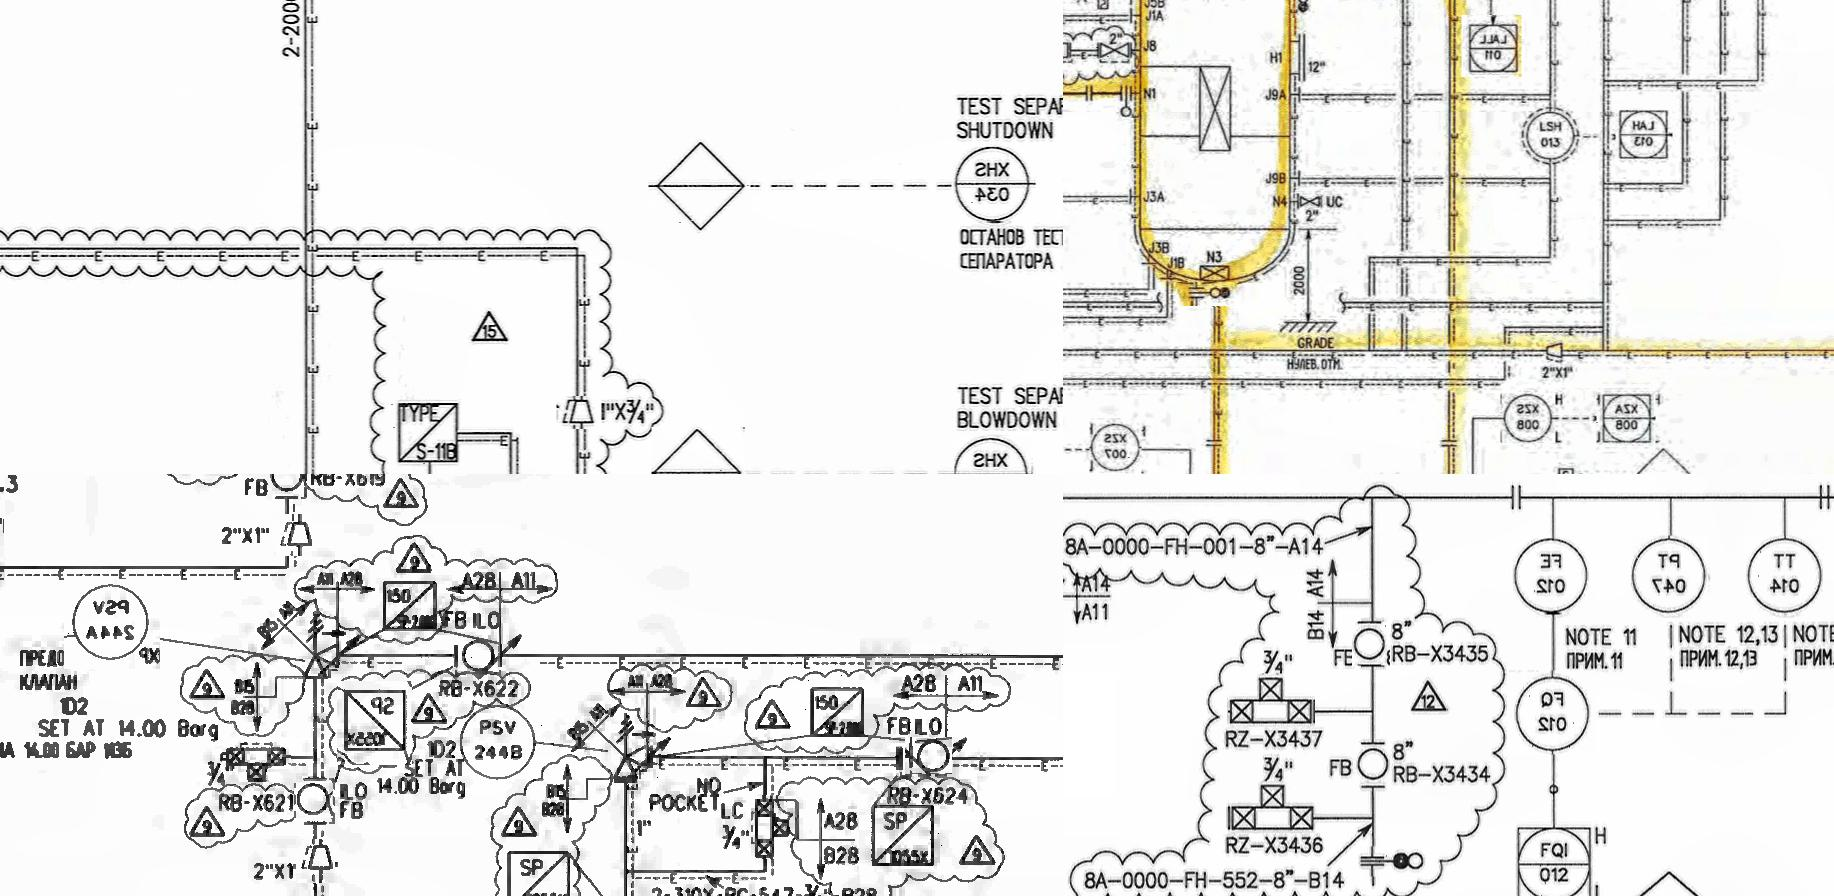2 WAY VALVE: (1226, 779, 1322, 830), (1229, 673, 1317, 726), (223, 740, 292, 781)
ANGLE RELIEF VALVE: (609, 709, 661, 794), (299, 602, 344, 690), (752, 797, 797, 860)
BLIND SPADE OPEN: (1113, 82, 1139, 125)
CONCENTRIC REDUCER: (297, 840, 342, 885), (275, 514, 313, 556), (557, 397, 602, 429), (1542, 340, 1576, 364)
DCS ACCESSIBLE: (1514, 823, 1593, 896), (1597, 385, 1657, 450), (1462, 15, 1523, 77), (1616, 108, 1674, 167)
DIAPHRAGM SEAL: (1091, 0, 1113, 14)
FIELD INSTRUMENT: (64, 580, 160, 671), (1510, 670, 1598, 754), (1508, 539, 1597, 614), (1744, 536, 1826, 615), (458, 703, 542, 781), (1632, 536, 1710, 615), (1521, 103, 1581, 171), (1089, 419, 1142, 474), (1501, 393, 1557, 443), (905, 738, 952, 776), (1352, 621, 1390, 666), (461, 635, 502, 671), (295, 784, 335, 820), (1358, 746, 1391, 783), (269, 474, 306, 492)
GATE VALVE: (1096, 41, 1139, 68), (1294, 189, 1329, 215)
HARDWIRED INTERLOCK PRIMARY.: (648, 136, 750, 232), (651, 428, 744, 474), (1629, 449, 1699, 474)
PANEL INSTRUMENT: (951, 149, 1035, 223), (954, 436, 1030, 474)
REVISION TRIANGLE: (379, 476, 430, 517), (181, 667, 232, 703), (188, 805, 228, 849), (499, 800, 539, 843), (960, 827, 999, 871), (753, 695, 794, 731), (468, 309, 506, 346), (1409, 676, 1448, 712), (687, 675, 722, 715), (398, 539, 432, 577), (411, 692, 449, 723)
SPECIAL PIPING ITEM: (860, 797, 958, 875), (797, 671, 885, 750), (337, 682, 412, 767), (388, 395, 471, 470), (370, 567, 448, 639), (499, 845, 589, 896)
SPECTACLE BLIND CLOSED: (1354, 846, 1434, 876)
SPECTACLE BLIND OPEN: (1175, 283, 1235, 308), (1290, 0, 1317, 18)
SPEED FLOW METER: (1554, 464, 1580, 474)
